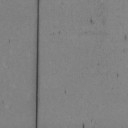surface scratch: (35, 0, 40, 128)
